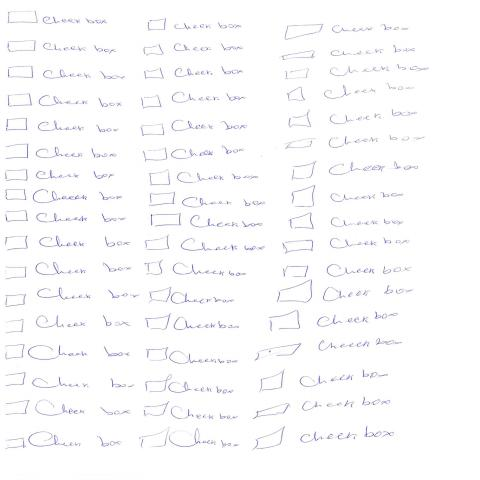Check Box: (5, 289, 141, 308), (291, 186, 407, 208), (290, 162, 420, 181), (283, 262, 415, 279), (7, 65, 128, 83), (148, 169, 261, 188), (146, 259, 250, 279), (290, 213, 405, 231), (282, 237, 411, 253), (284, 24, 411, 40), (148, 192, 265, 209), (5, 118, 121, 135), (150, 213, 265, 230), (5, 235, 133, 250), (140, 91, 246, 109), (5, 188, 124, 204), (7, 93, 124, 109), (5, 210, 129, 225), (145, 238, 268, 253), (140, 120, 251, 136), (8, 40, 118, 56), (146, 348, 240, 366), (149, 288, 238, 307), (144, 315, 241, 332), (144, 146, 247, 162), (7, 11, 109, 26), (5, 169, 118, 182), (147, 17, 244, 32), (142, 43, 247, 56), (143, 68, 246, 80)
